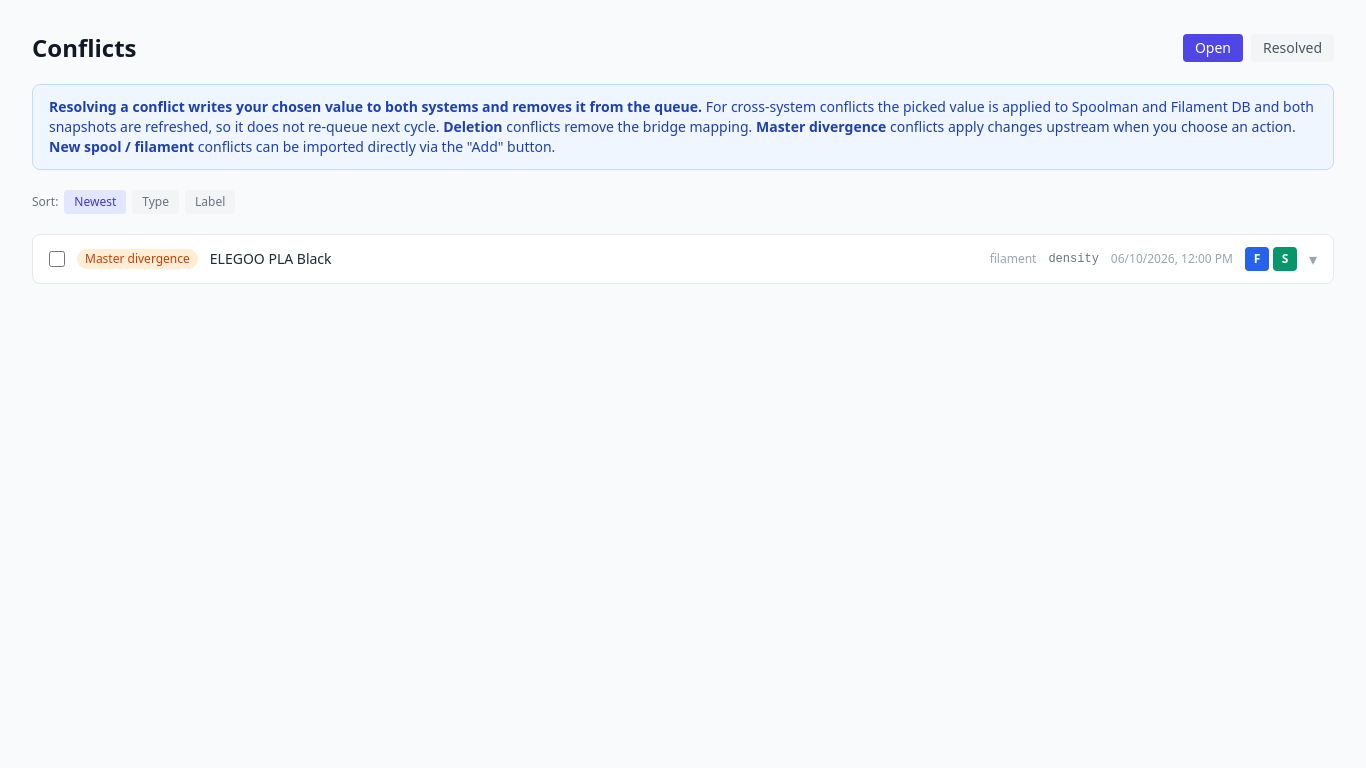
Test case: Conflicts page — master_divergence card › shows variant list and action buttons after expanding the card
Click to expand the card (click on the conflict row)
Click the text "ELEGOO PLA Black": (137, 259) [49, 247, 1317, 271]
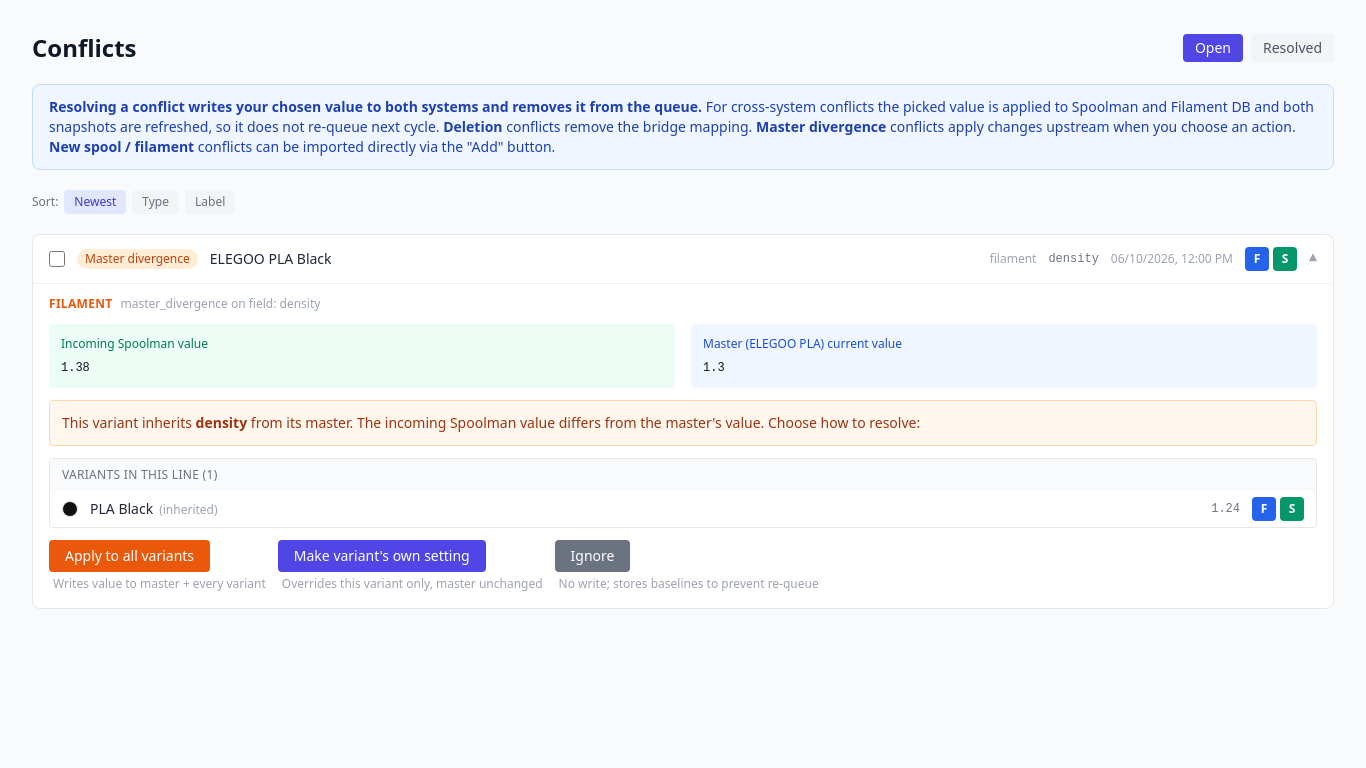
expect the button "Apply to all variants" is shown: met, box [49, 540, 210, 572]
expect the button "Make variant's own setting" is shown: met, box [278, 540, 486, 572]
expect the button "Ignore" is shown: met, box [555, 540, 630, 572]
